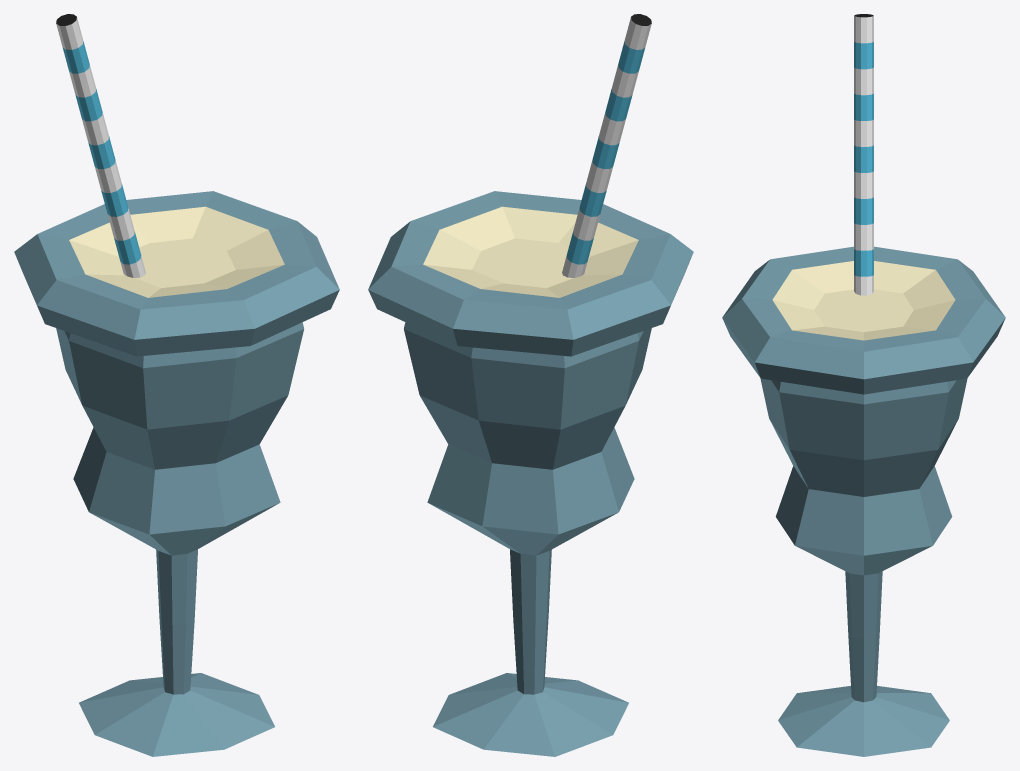
Rendered from Milkshake.fbx.
3 views of the same model, side by side, from view 1: azimuth 30°, elevation 25°; view 2: azimuth 150°, elevation 25°; view 3: azimuth 270°, elevation 25° (orthographic). The views are drawn at different scales.
Visible parts, largest first — view 1: Milkshake; view 2: Milkshake; view 3: Milkshake.
Boxes of the visible parts, bbox=[...] form: Milkshake: bbox=[14, 14, 339, 756]; Milkshake: bbox=[368, 14, 693, 756]; Milkshake: bbox=[722, 14, 1005, 756].
Size of the model in its own units: 16.06 by 39.66 by 15.49.
